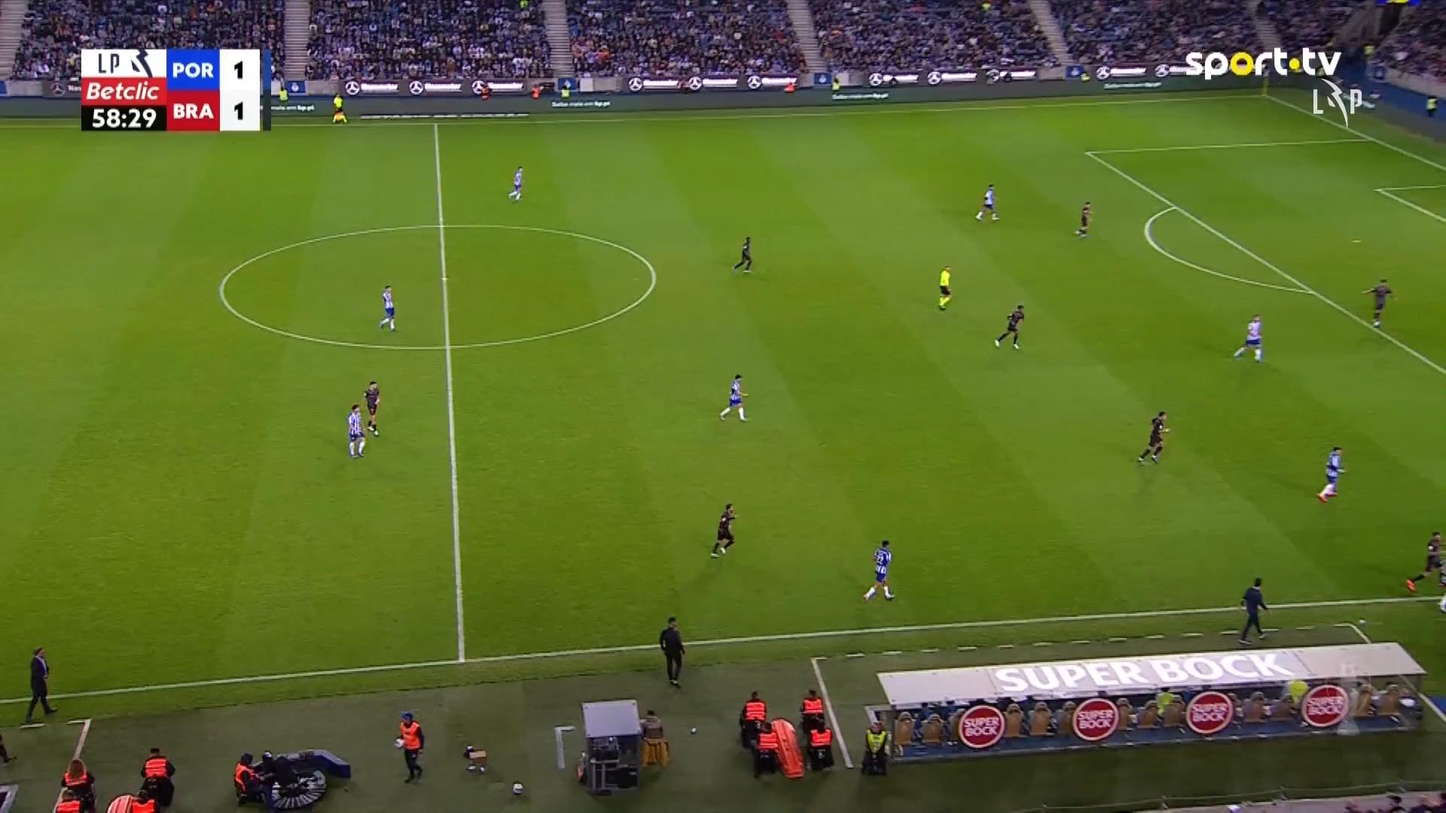ball: (1359, 618, 1365, 626)
player: (1405, 530, 1444, 592), (862, 539, 895, 601), (1136, 410, 1170, 464), (1360, 278, 1396, 327), (1316, 446, 1345, 502), (709, 502, 737, 558), (718, 373, 749, 422), (1233, 313, 1264, 362), (993, 303, 1025, 349), (346, 403, 367, 458), (362, 380, 380, 436), (975, 183, 999, 221), (378, 284, 397, 331), (731, 236, 752, 273), (1074, 200, 1092, 236), (507, 166, 523, 201)
referee: (1238, 576, 1269, 644), (937, 264, 952, 310), (331, 91, 348, 123)
